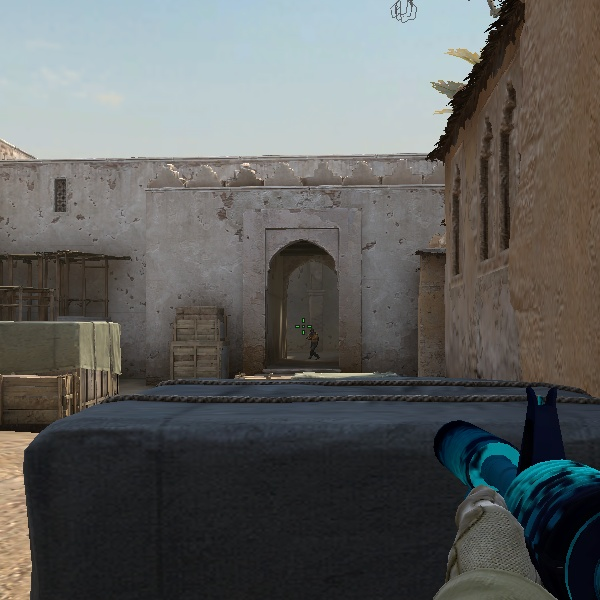t_body: (307, 328, 322, 360)
t_head: (310, 328, 315, 335)
